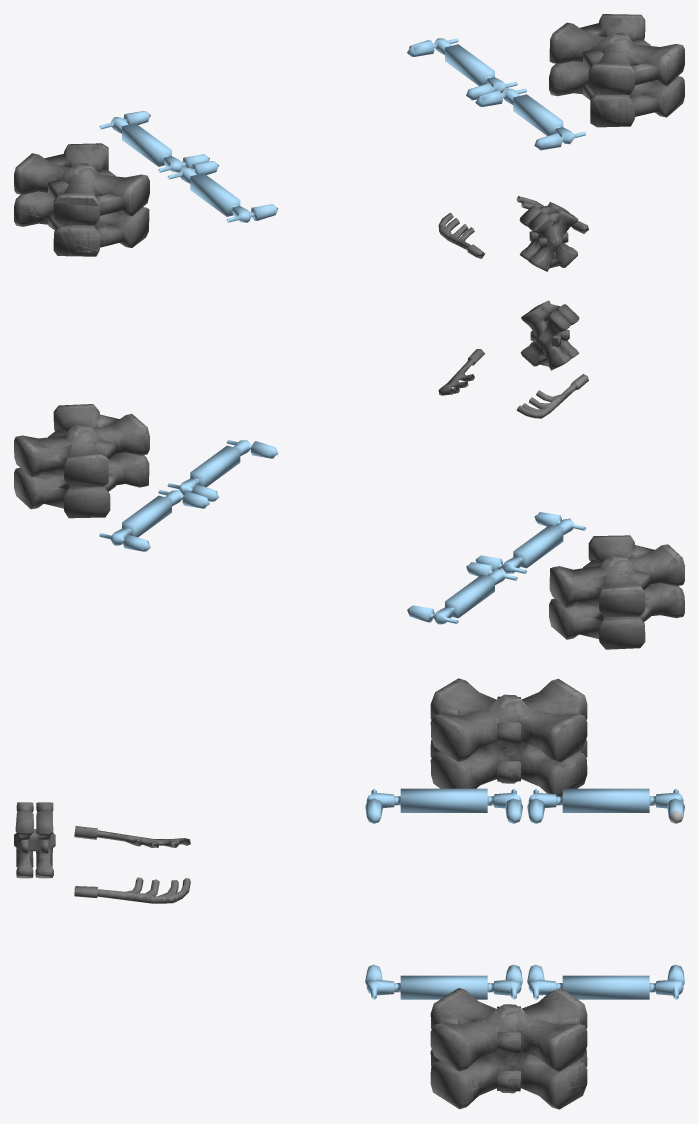
The model's file is low_cortese_elements.obj.
3 renders of one model, top to bottom at view 1: azimuth 30°, elevation 25°; view 2: azimuth 150°, elevation 25°; view 3: azimuth 270°, elevation 25°, orthographic. The views are drawn at different scales.
Parts seen in each view (by area): view 1: low_charnieres; view 2: low_charnieres; view 3: low_charnieres.
Boxes of the visible parts, x1,y1,x2,y2 form: low_charnieres: [14, 14, 684, 271]; low_charnieres: [14, 300, 684, 649]; low_charnieres: [14, 678, 684, 1109].
Size of the model in its own units: 787 by 127 by 611.
Materials: 1 (1 with a texture image).
